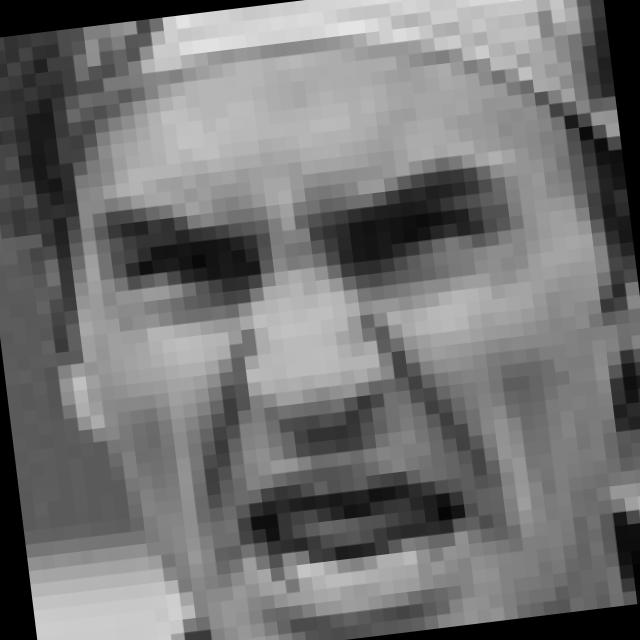angry: (94, 147, 549, 640)
